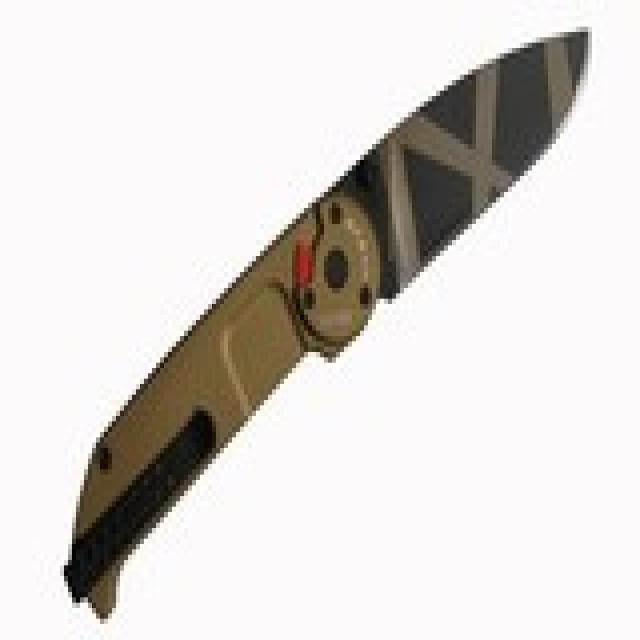Knife: (55, 25, 591, 633)
